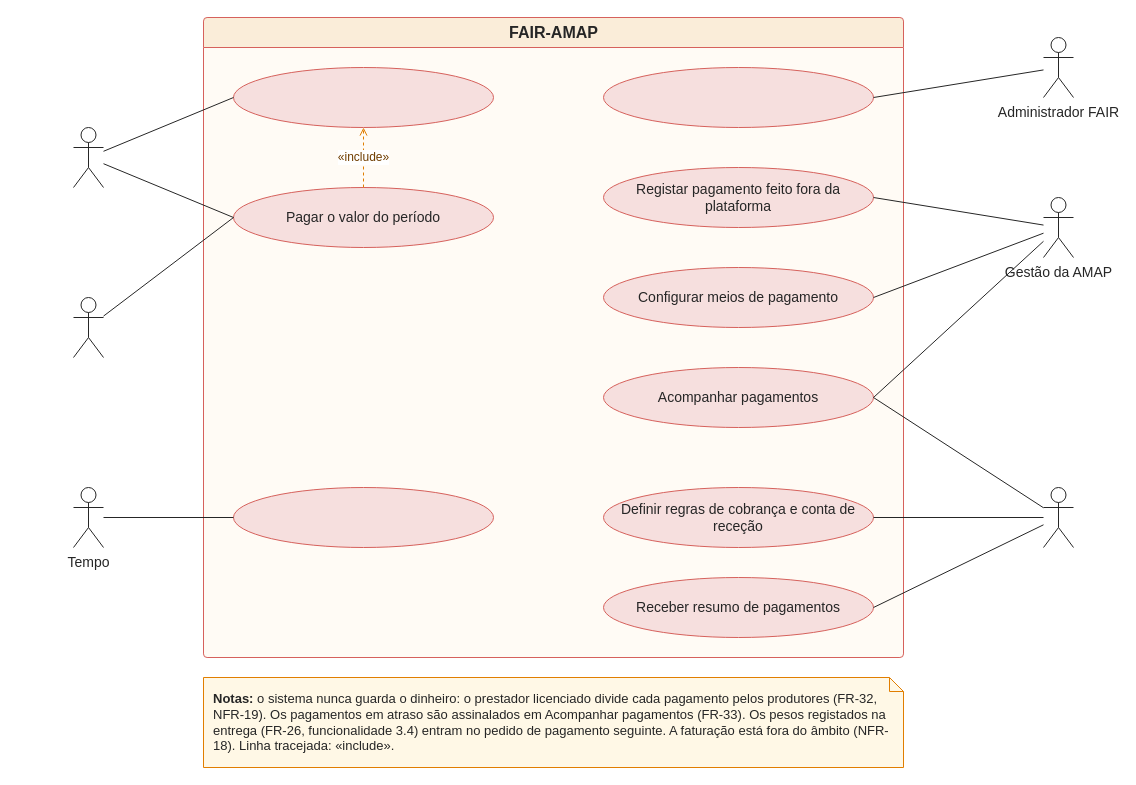
Some shapes in this 1136 by 785 pixel diagram are drawn without their labels. The shapes that lost their labels are listed below. From the top down, each one's centre as x and y in pixels, then its label:
point 363,97: Consultar valor em dívida e histórico
point 738,97: Calcular o valor cobrado pela FAIR
point 88,157: Coprodutor
point 88,327: Prestador de pagamentos licenciado
point 363,517: Calcular e enviar pedido de pagamento
point 1058,517: Produtor
